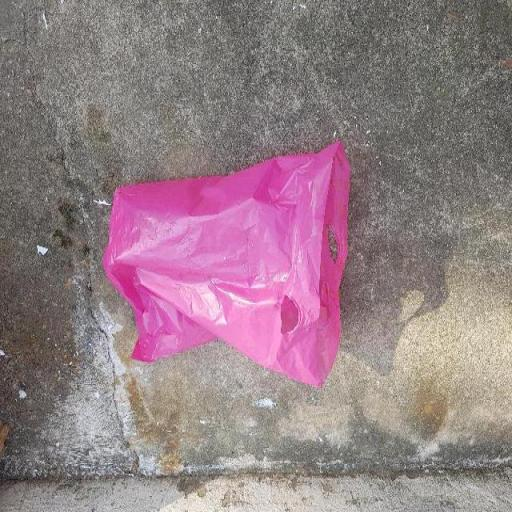plastic-bag: (102, 140, 352, 390)
